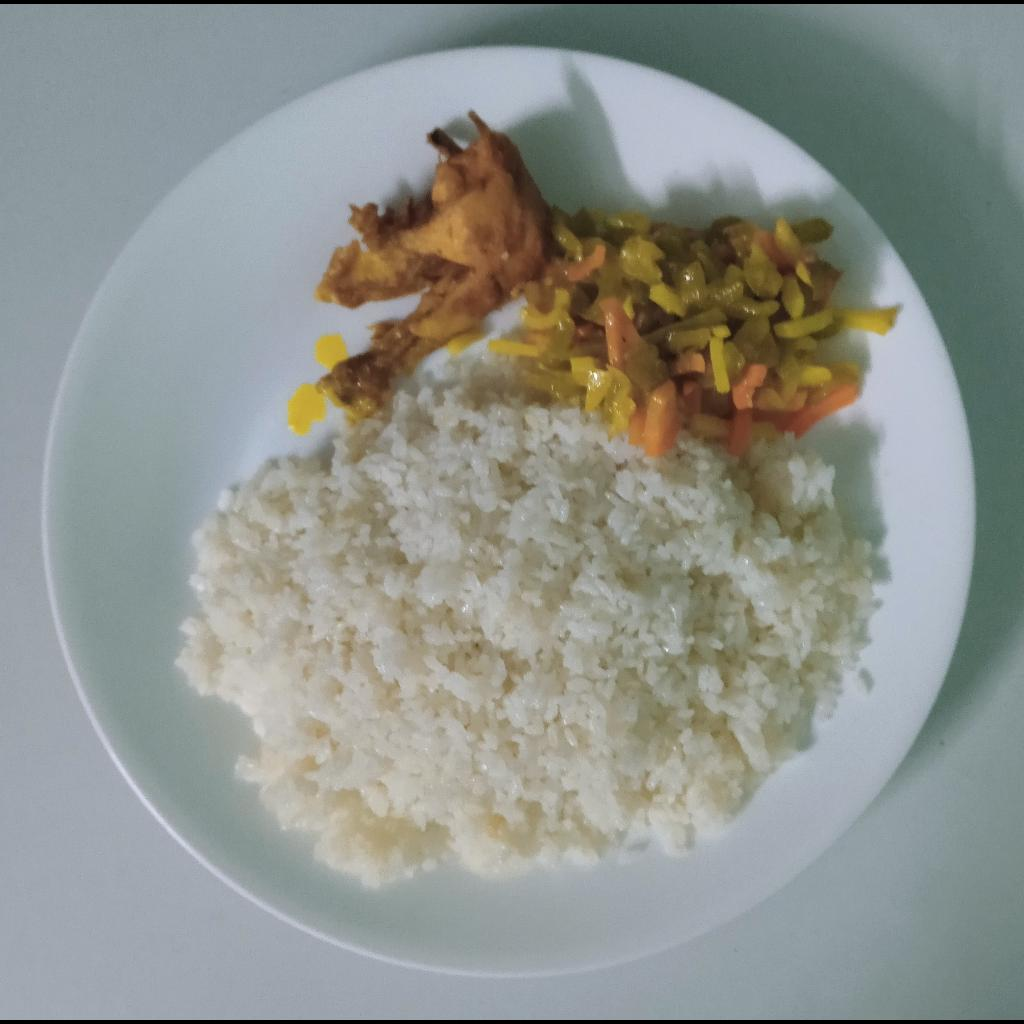chicken: (316, 109, 558, 425)
rice: (170, 355, 878, 889)
vegetable: (490, 208, 896, 456)
